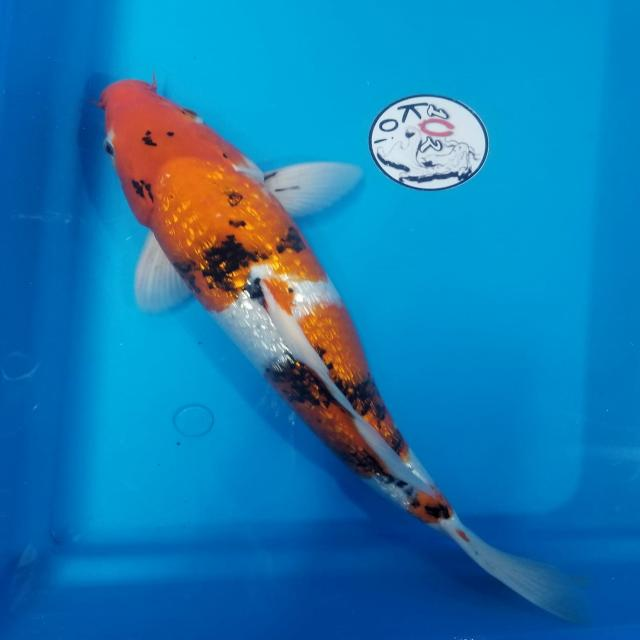Sanke: (89, 72, 589, 624)
